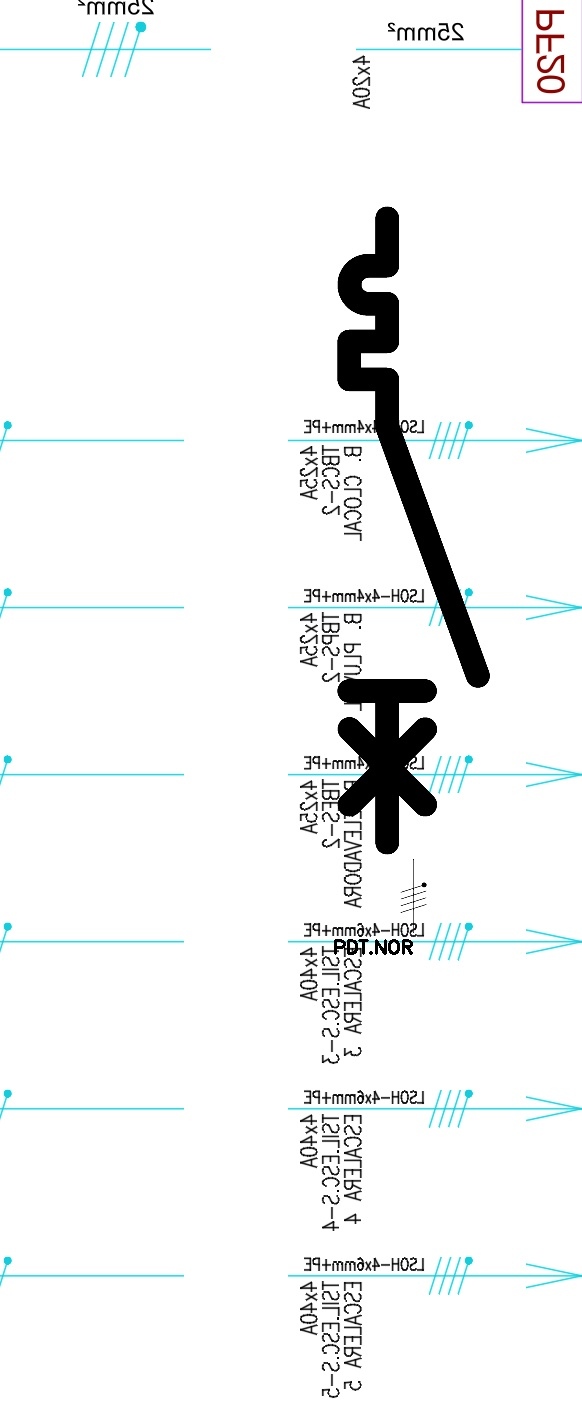interruptor_termomagnetico: (333, 202, 494, 859)
